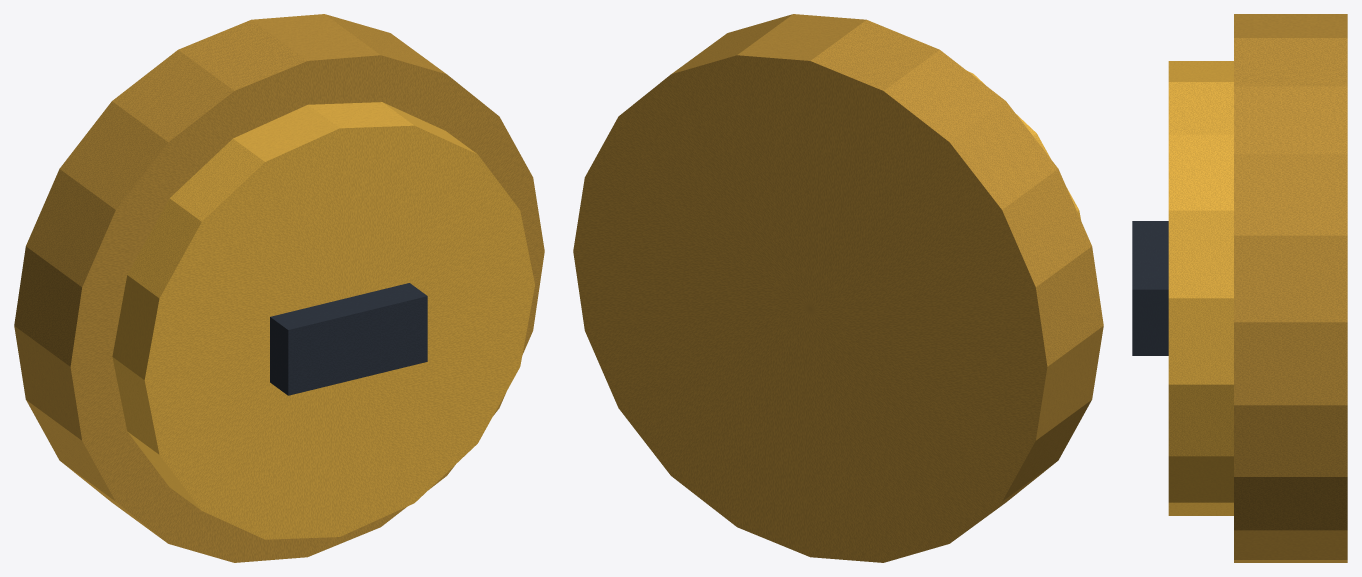
File: campus_medallion.gltf
3 renders of one model, left to right at view 1: azimuth 30°, elevation 25°; view 2: azimuth 150°, elevation 25°; view 3: azimuth 270°, elevation 25°, orthographic.
Visible parts, largest first — view 1: Campus Medallion; view 2: Campus Medallion; view 3: Campus Medallion.
Part boxes in pixels (bbox=[...]): Campus Medallion: bbox=[14, 14, 544, 562]; Campus Medallion: bbox=[573, 14, 1103, 562]; Campus Medallion: bbox=[1132, 14, 1347, 562].
Bounding box in the file's own units: 0.068 × 0.068 × 0.0265.
3 materials, 3 textured.
